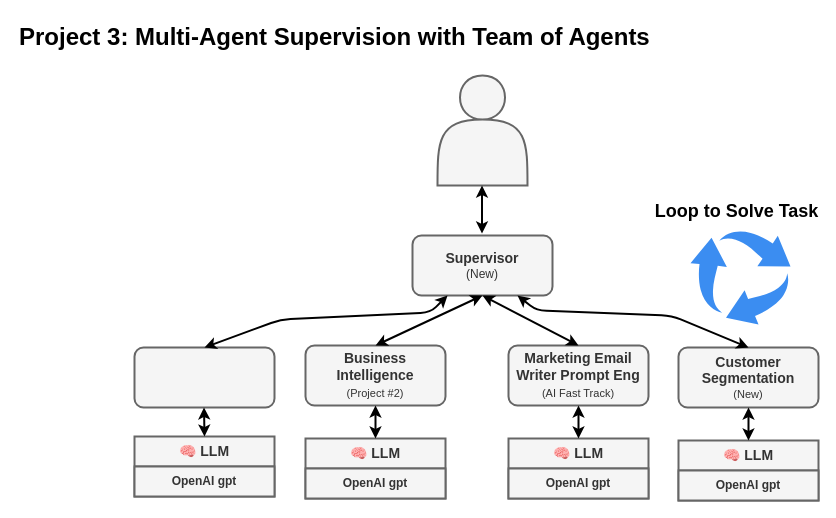
Some shapes in this 836 by 518 pixel diagram are drawn without their labels. The shapes that lost their labels are listed below. From the top down, each one's box as (x1, y1, x2, y2) in pixels, then its label:
(436, 74, 528, 186): App User
(133, 346, 275, 408): Product Expert RAG (Project #1)
